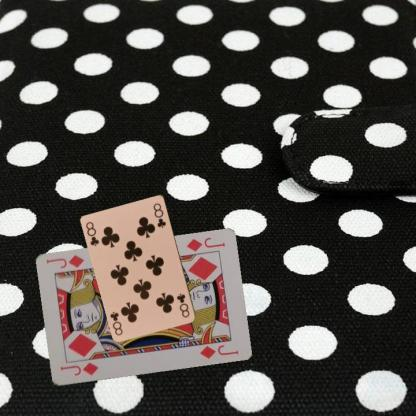8c: (174, 291, 192, 319), (83, 219, 101, 247)
Jd: (184, 235, 226, 254), (58, 360, 100, 377)
